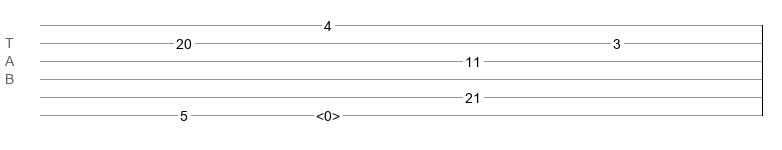11: (465, 54, 481, 64)
20: (176, 36, 192, 46)
21: (465, 90, 481, 100)
3: (613, 36, 621, 46)
4: (324, 18, 332, 28)
5: (180, 108, 188, 118)
harmonic: (316, 108, 340, 118)
